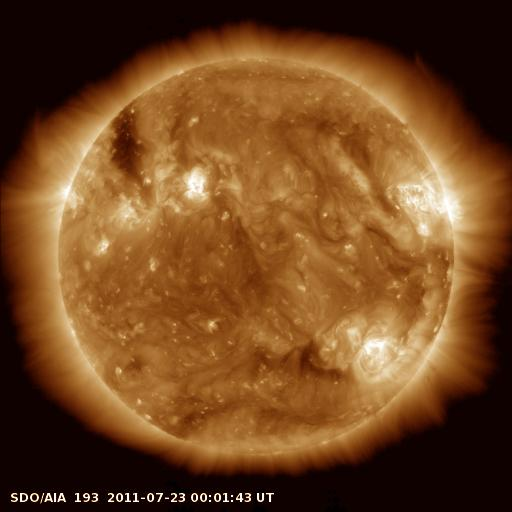coronal_hole: (109, 107, 156, 199)
